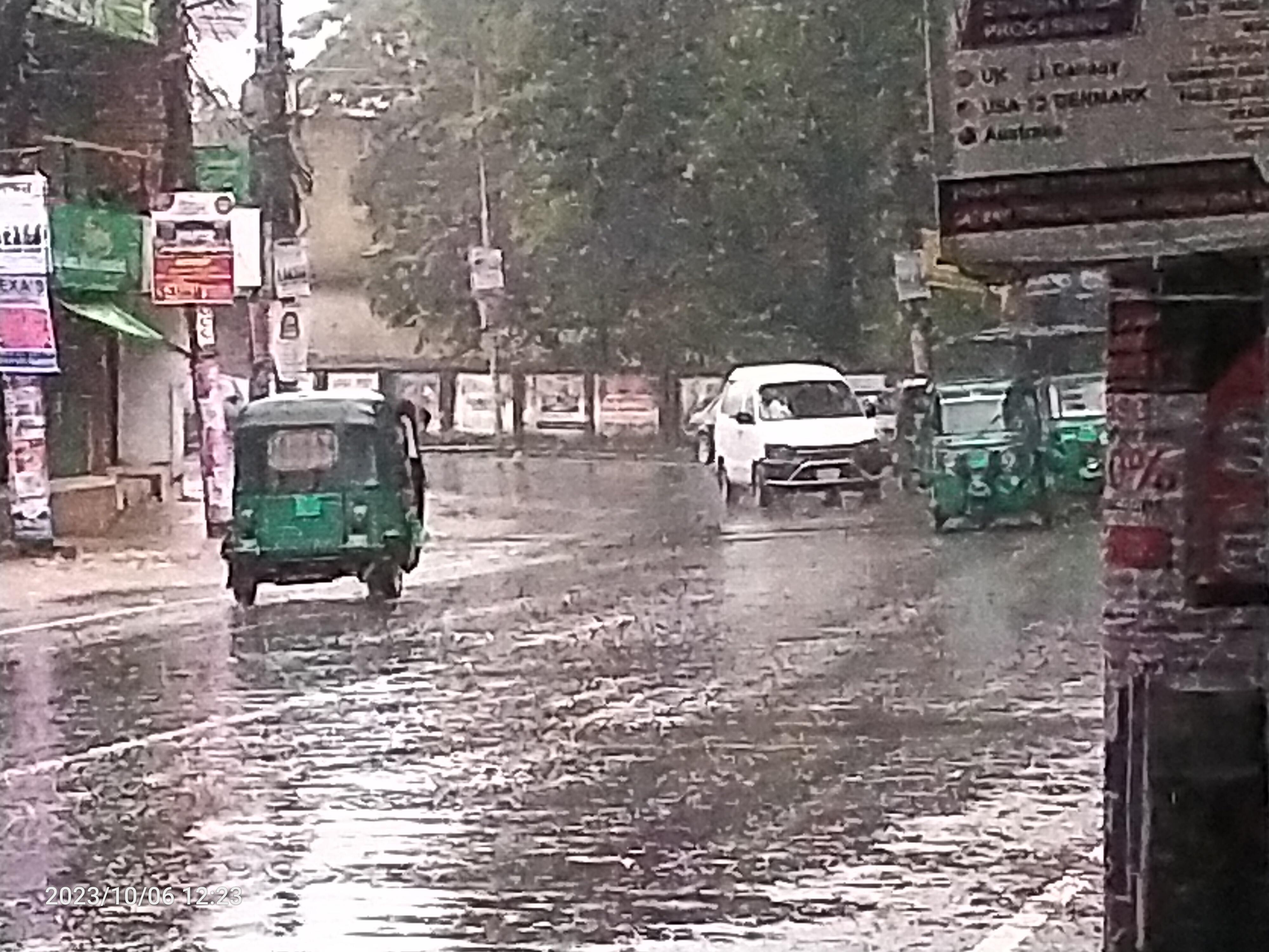Car: (696, 349, 890, 523)
